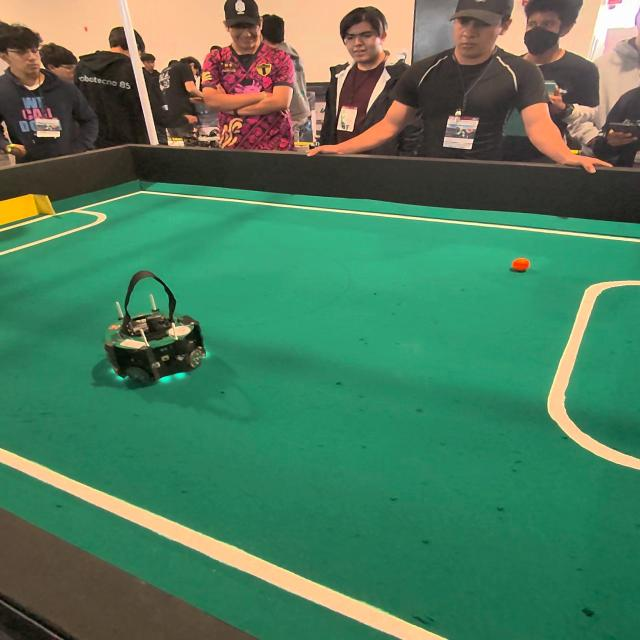Robot: (102, 269, 217, 399)
pelota: (509, 252, 533, 276)
